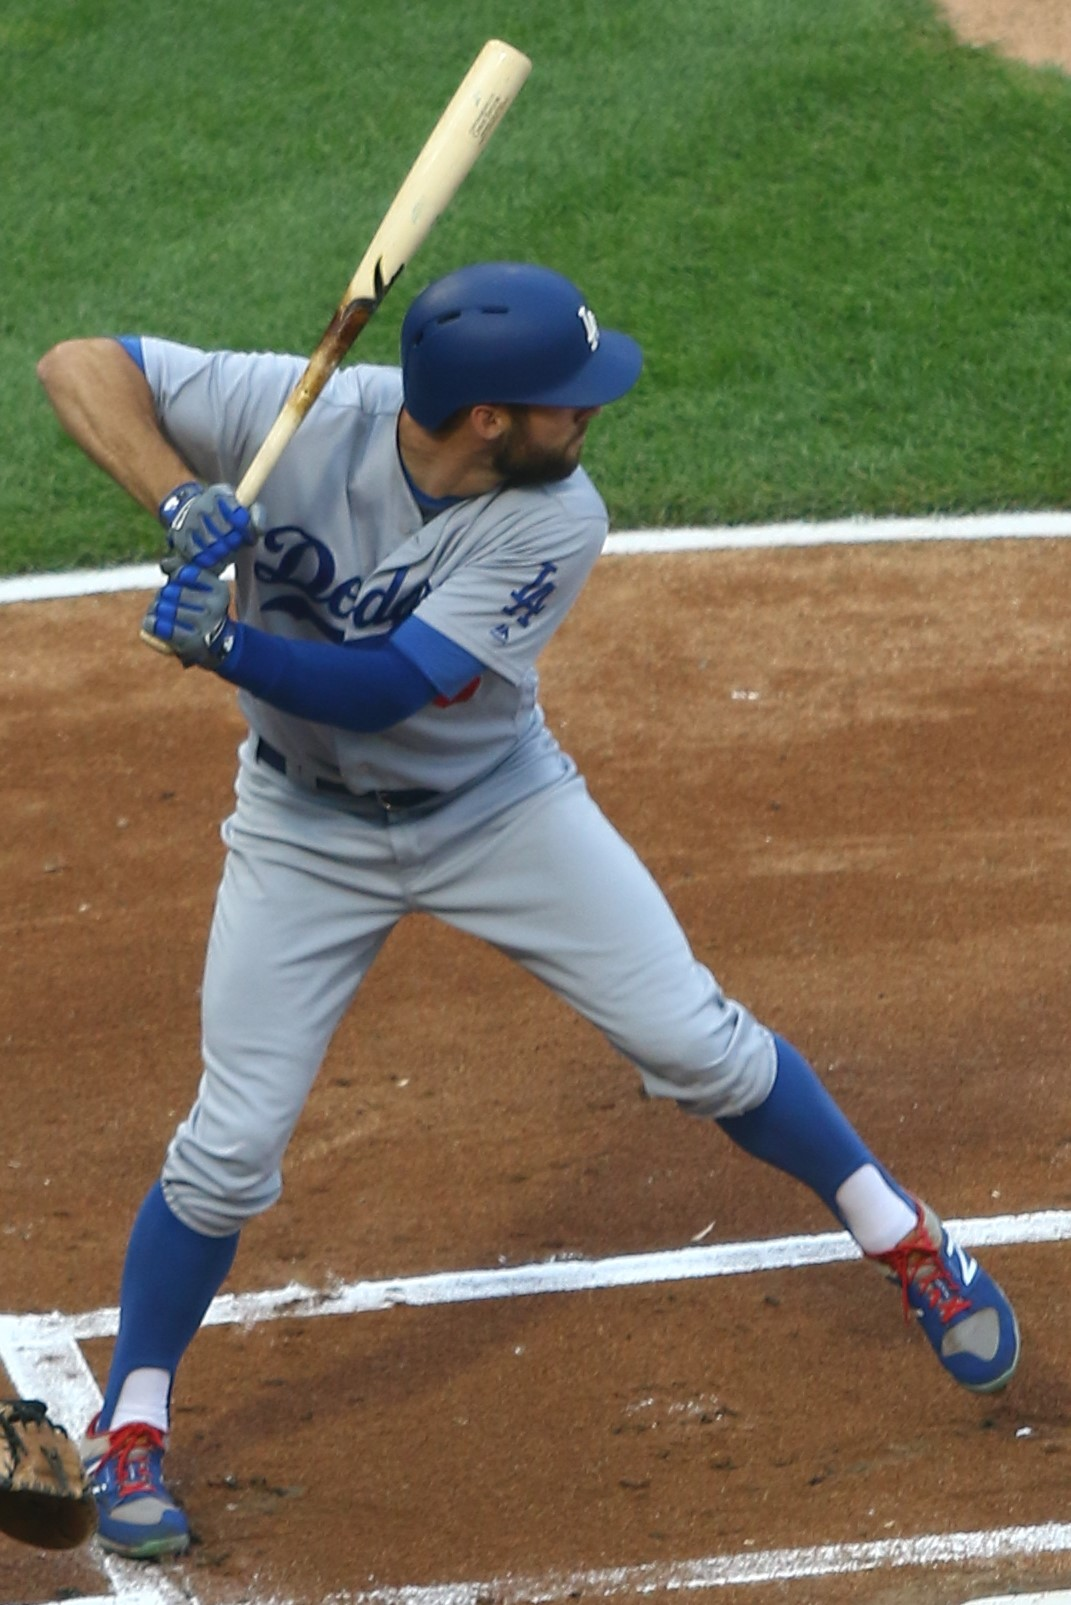LeftAnkle: (859, 1033, 1018, 1403)
LeftElbow: (333, 586, 414, 762)
LeftKnee: (617, 834, 732, 1181)
LeftShoulder: (512, 480, 617, 653)
RightAnkle: (87, 1341, 197, 1597)
RightElbow: (24, 299, 131, 516)
RightKnee: (179, 1015, 289, 1252)
